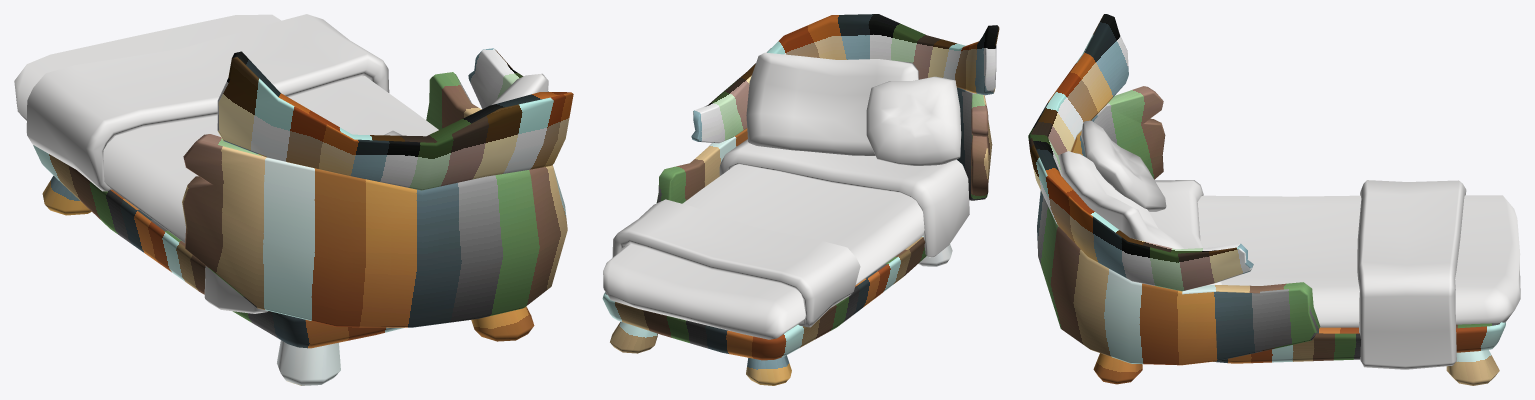
The model's file is P_AP22BedSingle.glb.
The picture shows the model from 3 angles, left to right: view 1: azimuth 30°, elevation 25°; view 2: azimuth 150°, elevation 25°; view 3: azimuth 270°, elevation 25°; orthographic projection. The views are drawn at different scales.
Visible parts, largest first — view 1: P_AP22BedSingle; view 2: P_AP22BedSingle; view 3: P_AP22BedSingle.
Part boxes in pixels (x1,y1,x2,y2): P_AP22BedSingle: [14, 14, 573, 385]; P_AP22BedSingle: [602, 14, 999, 385]; P_AP22BedSingle: [1028, 14, 1520, 385].
Bounding box in the file's own units: 1.38 × 1.23 × 2.09.
1 material, 1 textured.
